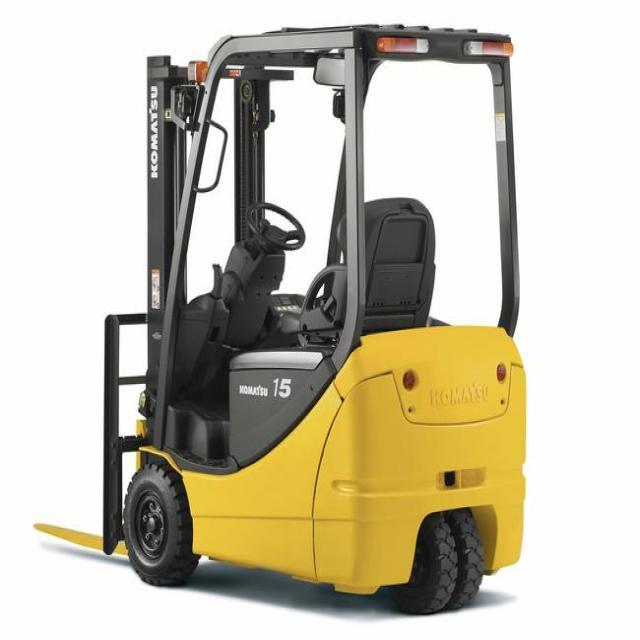forklift: (86, 2, 530, 613)
